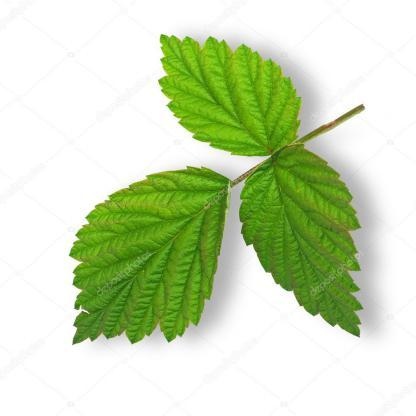Raspberry leaf: (66, 164, 232, 350), (239, 145, 363, 339), (155, 31, 301, 156)
